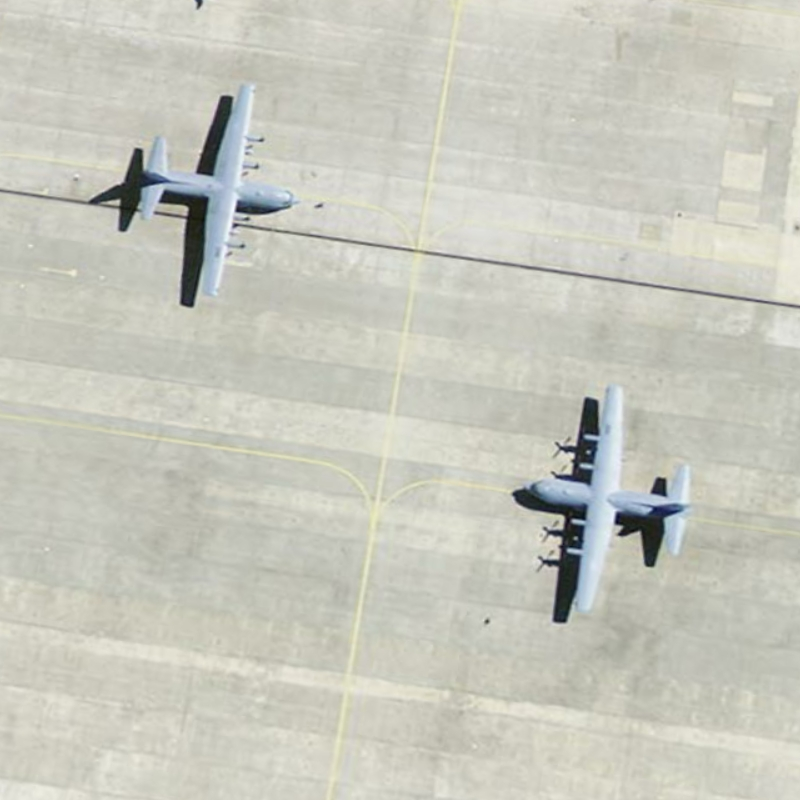A2: (124, 75, 304, 310), (521, 378, 692, 619)
